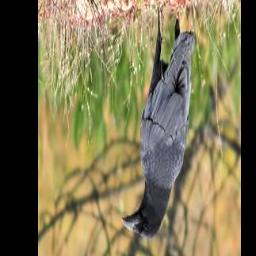Crow: (123, 2, 197, 240)
